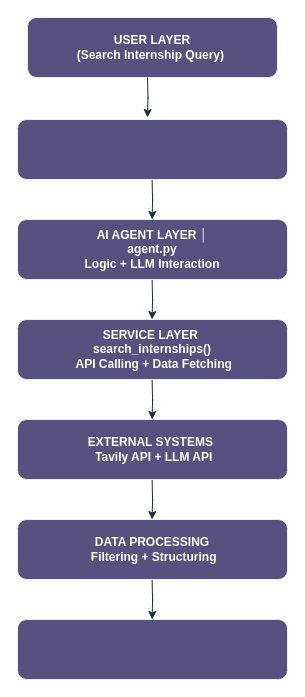
This 305x697 diagram has some shape labels left out. Here are the shapes that lost their labels. From the top down, the box of each, then its label:
(16, 118, 288, 180): PRESENTATION LAYER app.py Input Handling & Output UI
(16, 618, 288, 680): FINAL OUTPUT Internship Listings
